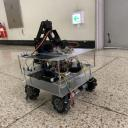cart: (17, 48, 98, 114)
